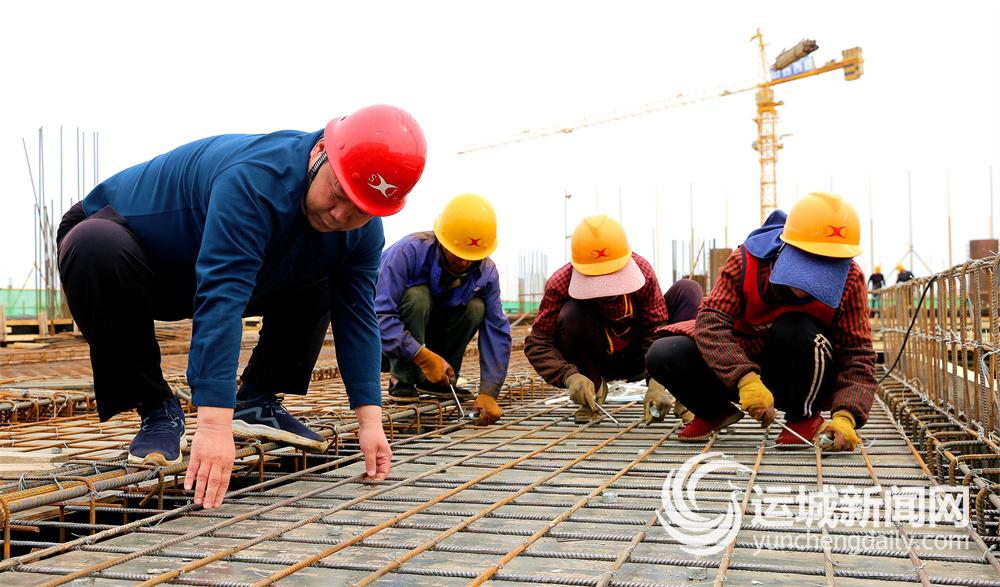safetyhat: (116, 87, 433, 436), (690, 179, 895, 485), (530, 196, 672, 452), (405, 184, 518, 430)
